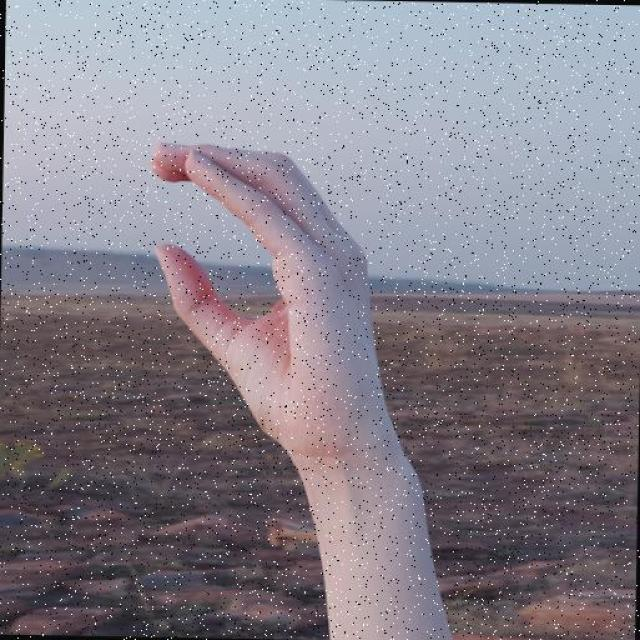C: (141, 143, 407, 472)
